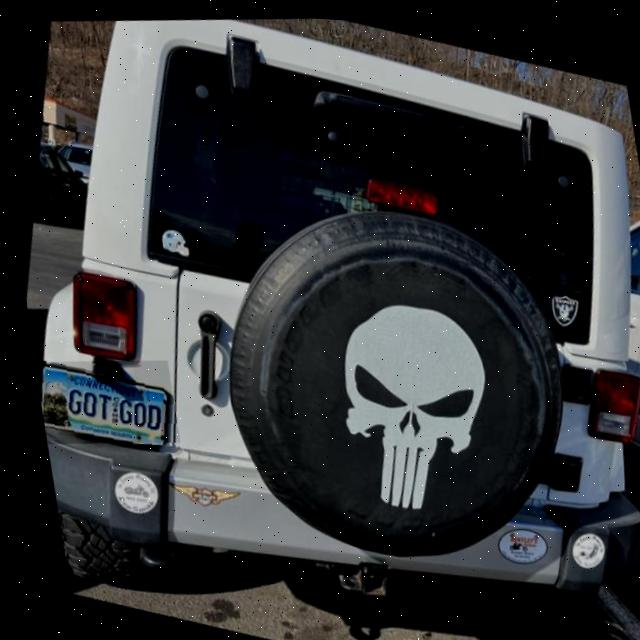LicensePlate: (27, 352, 172, 450)
